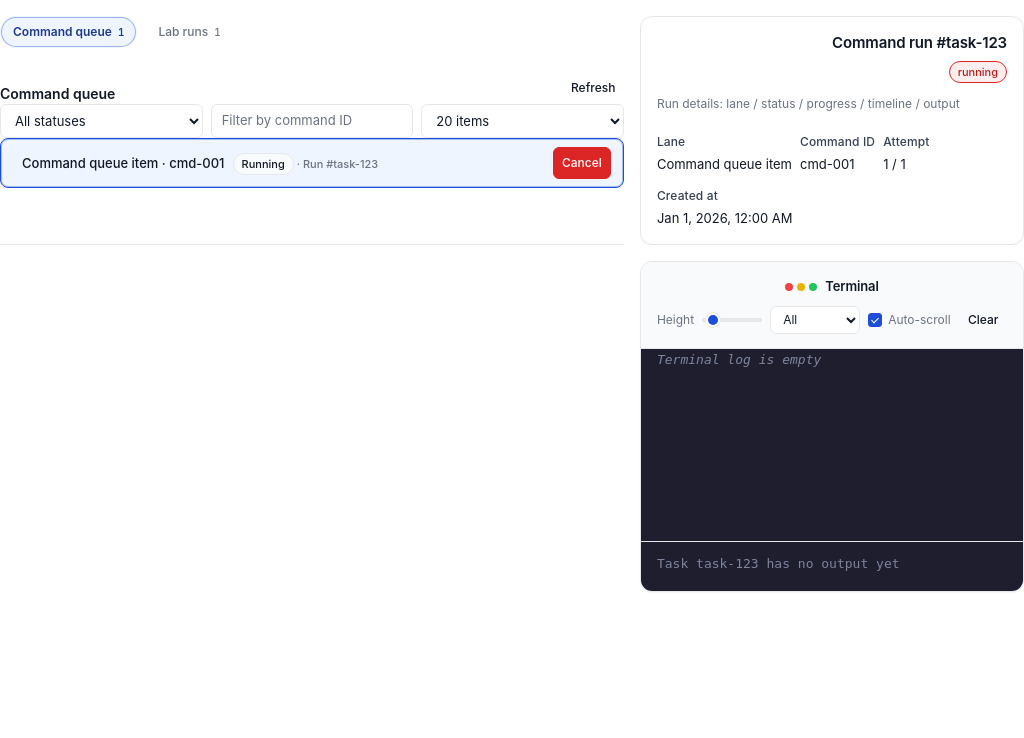
Scenario: TaskCenterView waiting state branches › keeps otp input flow for waiting_otp
Click the tab "Lab runs 1": (190, 32) [145,16,234,48]
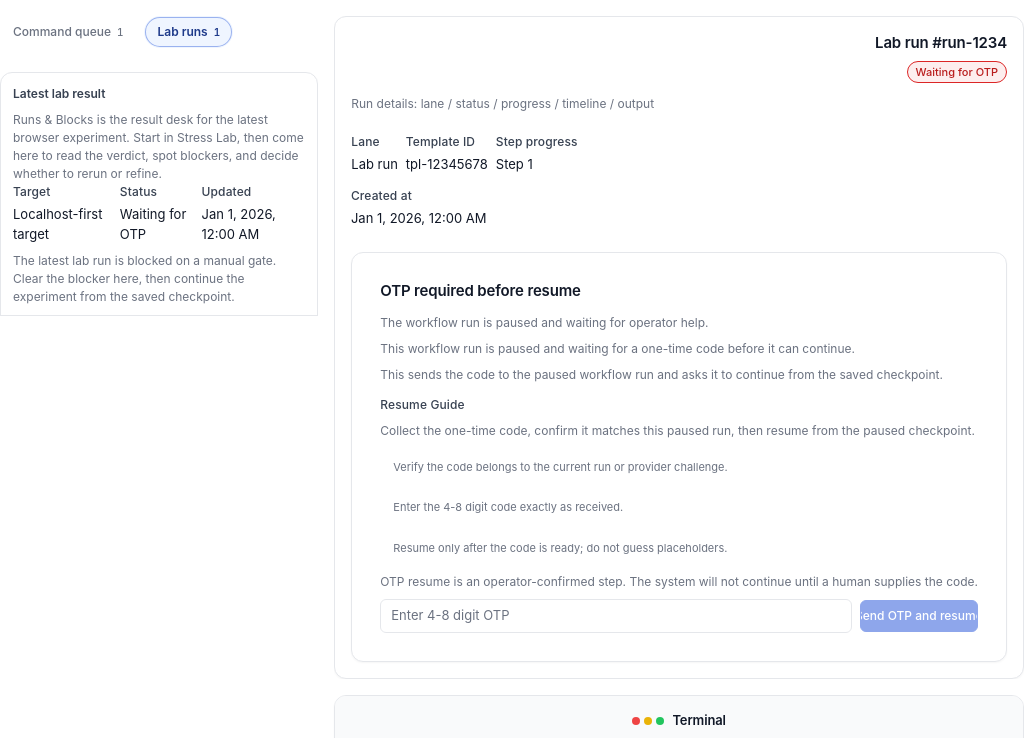
Now the text "This workflow run is paused and waiting for a one-time code before it can continue." is shown, box [380,340,855,356]
Now the text "This sends the code to the paused workflow run and asks it to continue from the saved checkpoint." is shown, box [380,366,943,382]
Now the button "Send OTP and resume" is shown, box [860,600,978,632]
